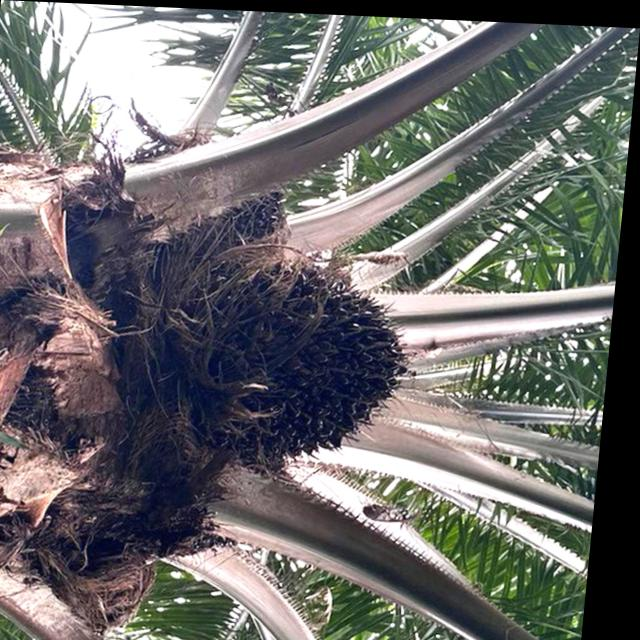ripe: (158, 235, 443, 491)
